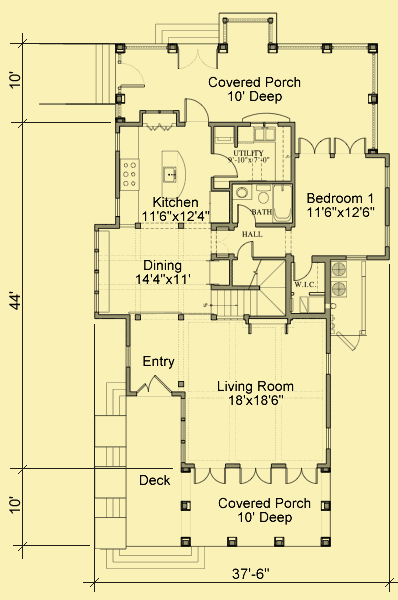bathroom has a small and large sink with bathtub: (228, 181, 293, 228)
kitchen has a cooking range with kitchen counter: (113, 123, 211, 230)
laundry room has a washer and dryer: (209, 124, 293, 183)
open area has staircase: (188, 253, 290, 321)
